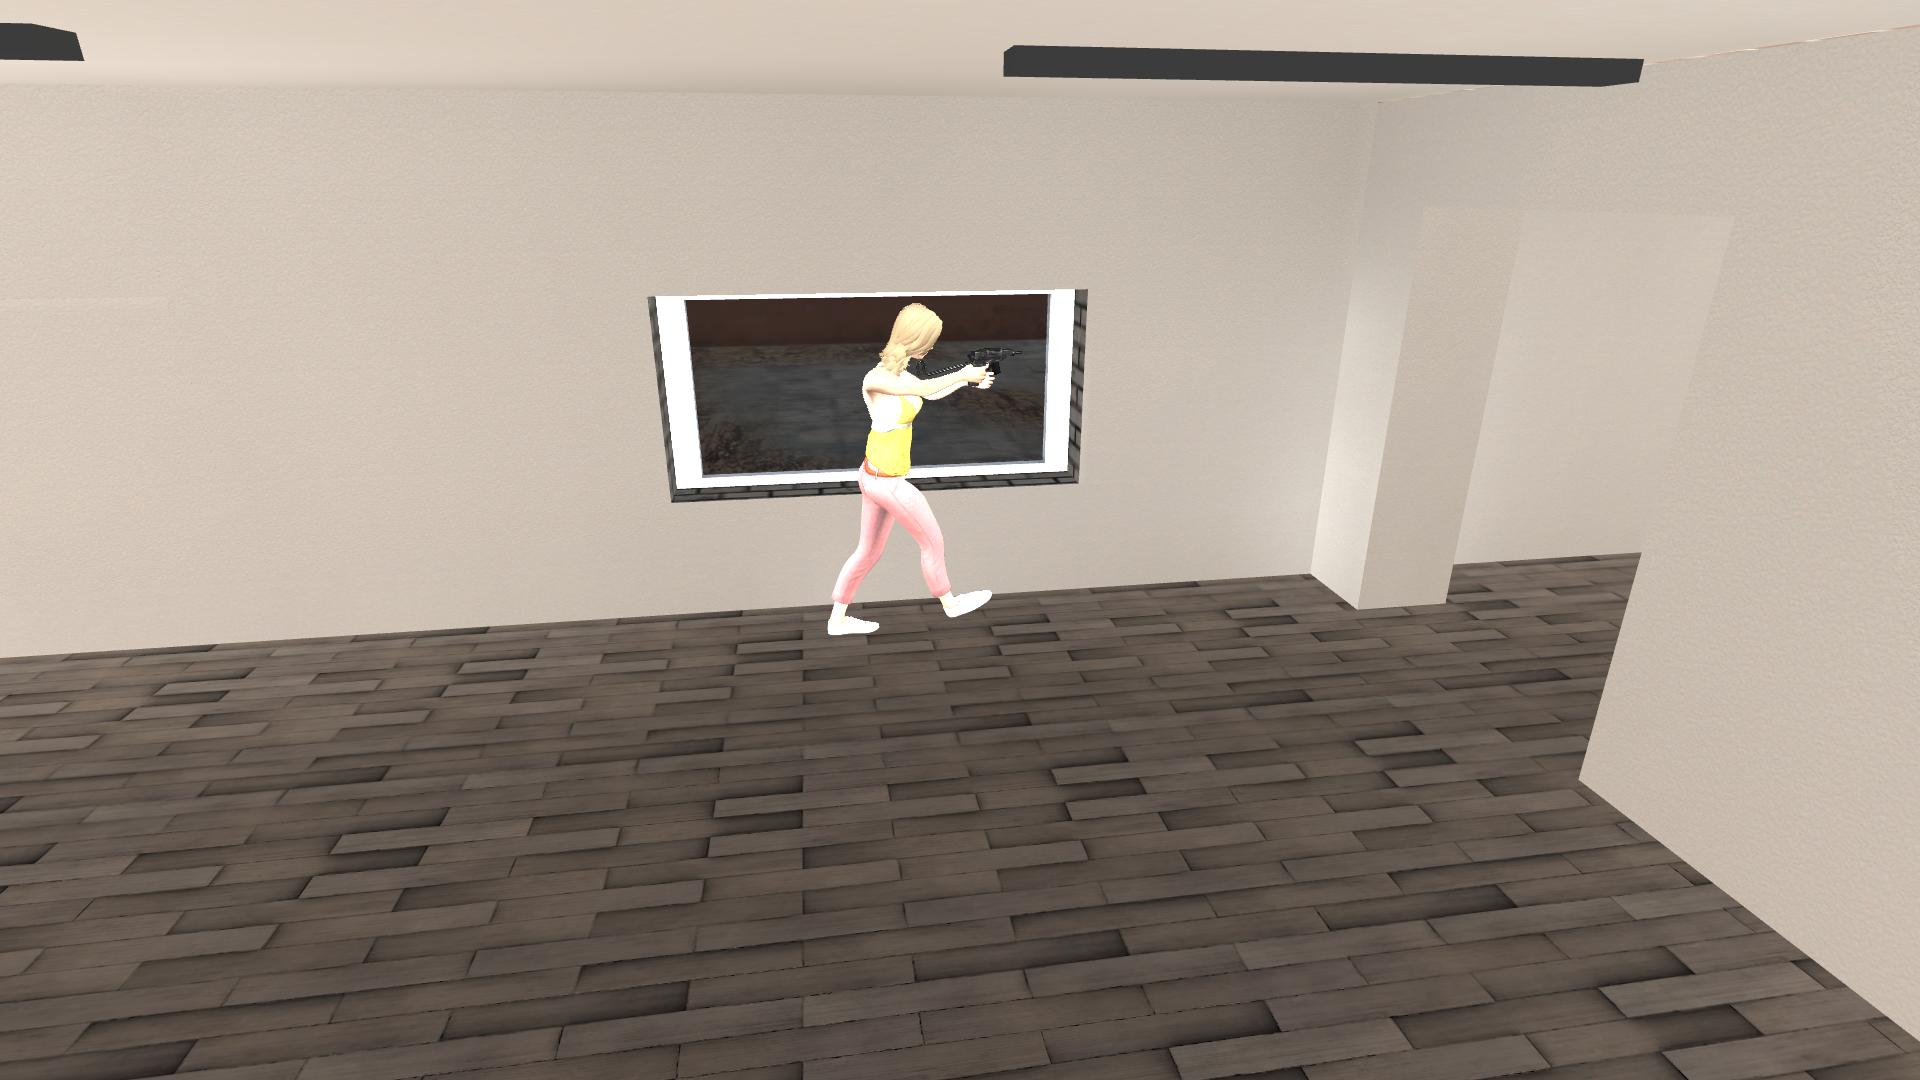Rifle: (909, 341, 1035, 397)
